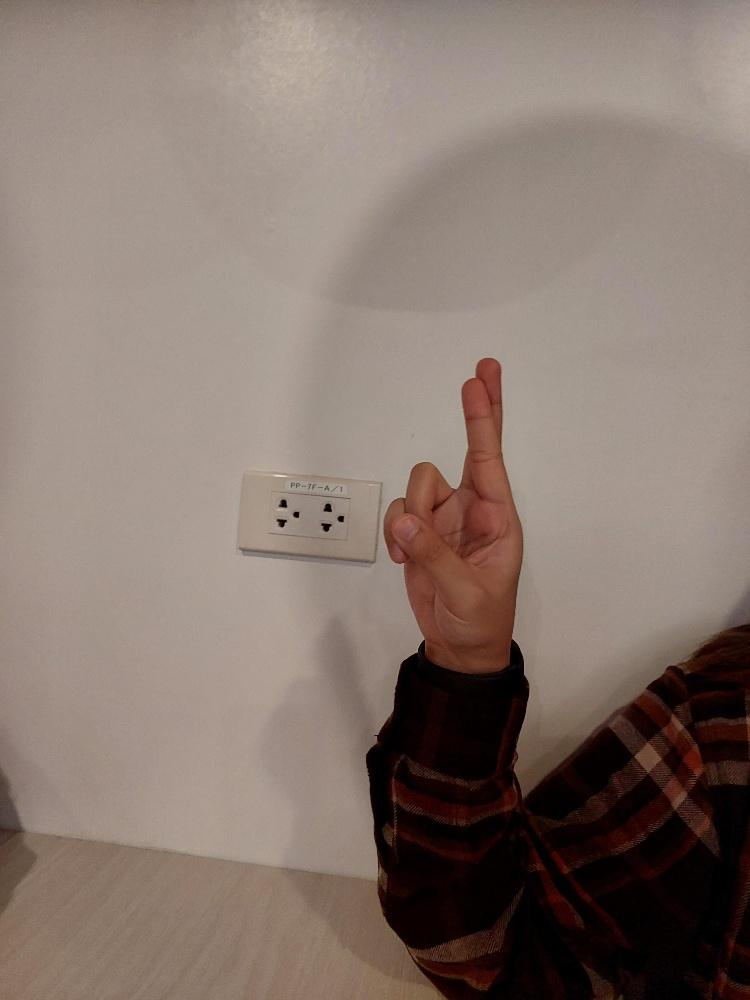r: (378, 353, 525, 658)
